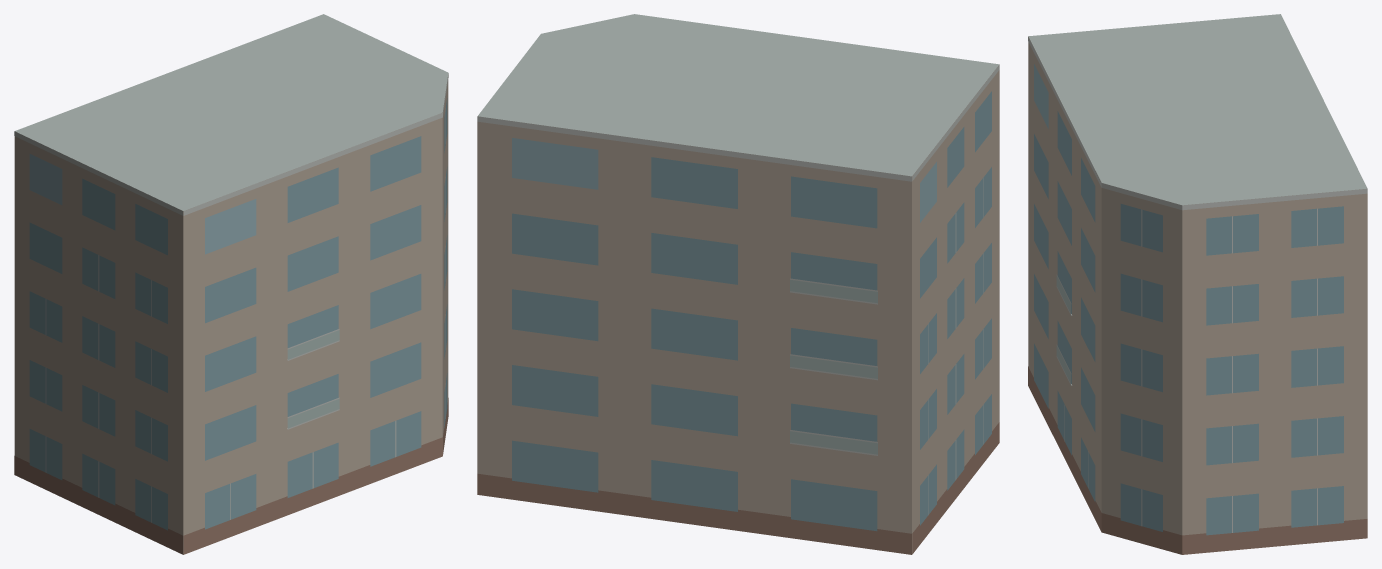
The model's file is survey-upis-32697684.glb.
3 views of the same model, side by side, from view 1: azimuth 30°, elevation 25°; view 2: azimuth 150°, elevation 25°; view 3: azimuth 270°, elevation 25° (orthographic). The views are drawn at different scales.
Parts seen in each view (by area): view 1: survey-upis-32697684.tmp; view 2: survey-upis-32697684.tmp; view 3: survey-upis-32697684.tmp.
Part boxes in pixels (x1,y1,x2,y2): survey-upis-32697684.tmp: (14,14,448,554); survey-upis-32697684.tmp: (477,14,999,554); survey-upis-32697684.tmp: (1028,14,1367,554).
Size of the model in its own units: 20.19 by 17.2 by 15.15.
